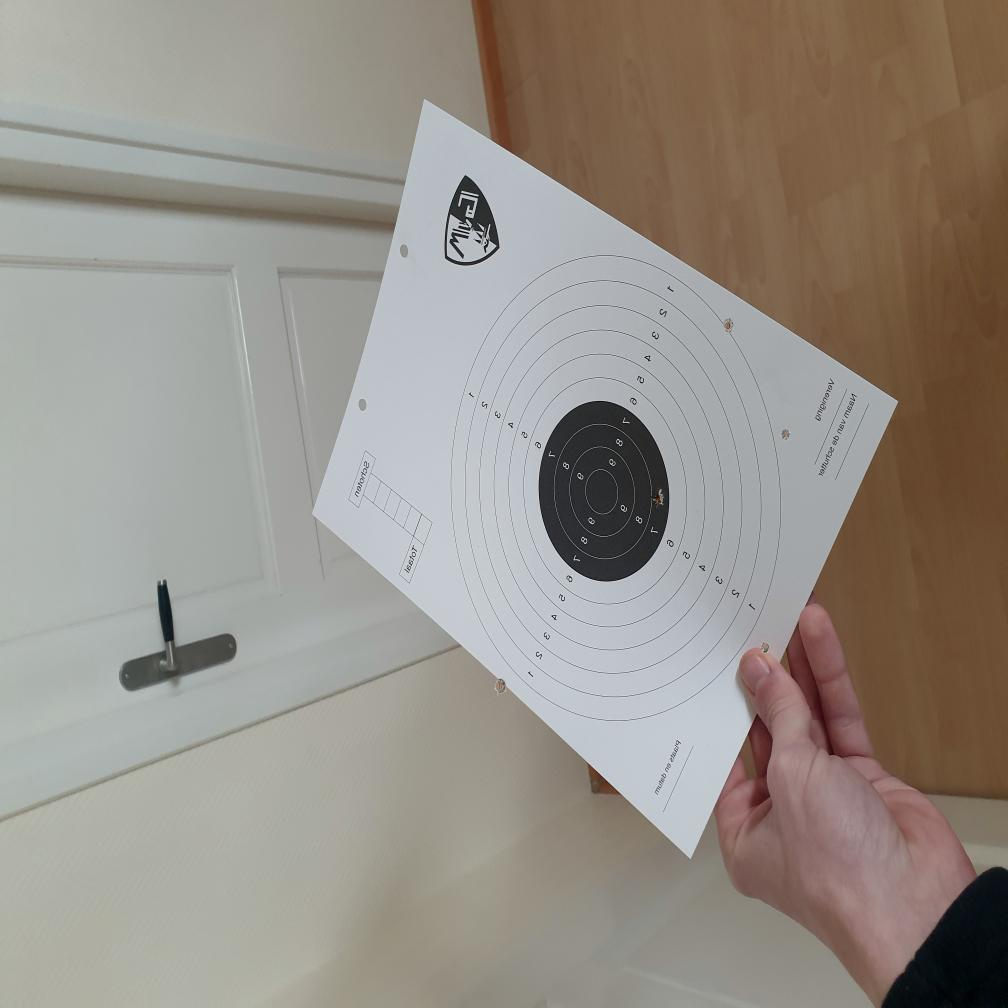0: (722, 315, 734, 334), (778, 426, 790, 444)
8: (650, 490, 665, 508)
Target: (446, 252, 784, 726)
black_contour: (537, 402, 670, 582)
